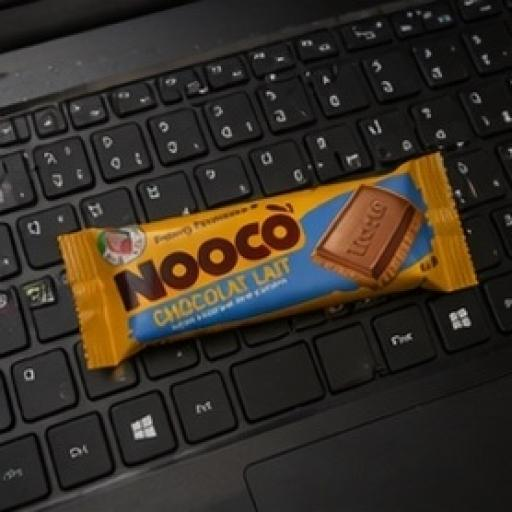nooco: (34, 183, 500, 365)
